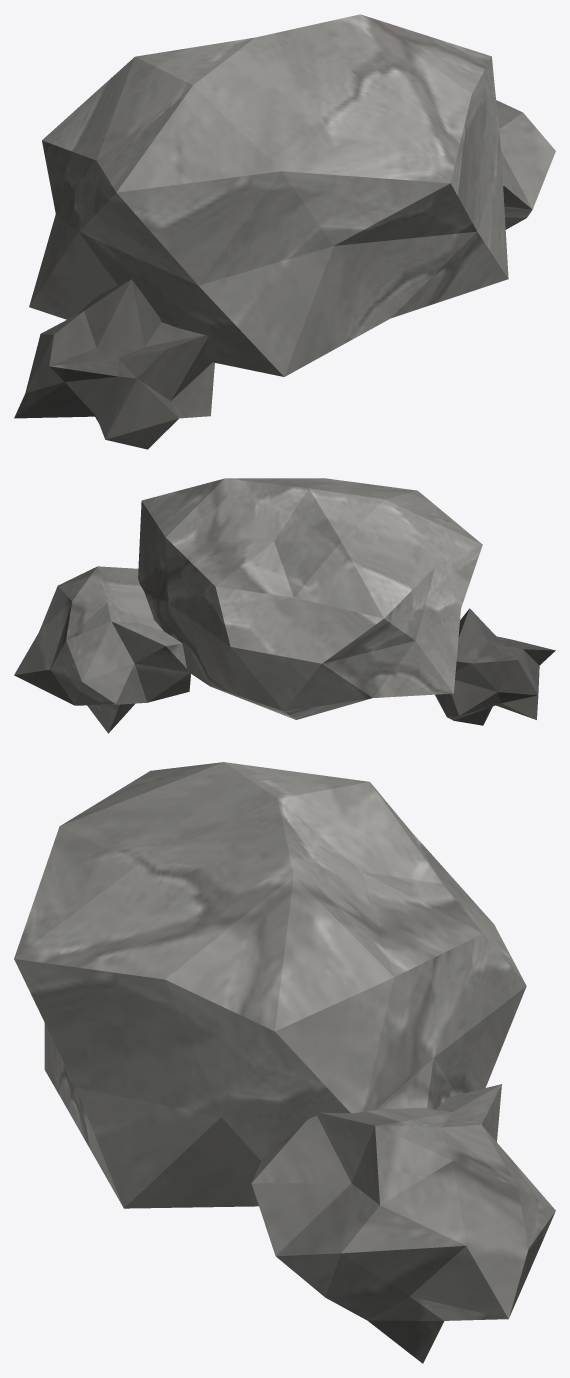
Rendered from marble.glb.
The picture shows the model from 3 angles, top to bottom: view 1: azimuth 30°, elevation 25°; view 2: azimuth 150°, elevation 25°; view 3: azimuth 270°, elevation 25°; orthographic projection. The views are drawn at different scales.
Parts seen in each view (by area): view 1: model; view 2: model; view 3: model.
Boxes of the visible parts, x1,y1,x2,y2 form: model: (14, 14, 555, 449); model: (14, 478, 555, 733); model: (14, 762, 555, 1363).
Size of the model in its own units: 0.3891 by 0.2169 by 0.2461.
Materials: 3 (3 with a texture image).
